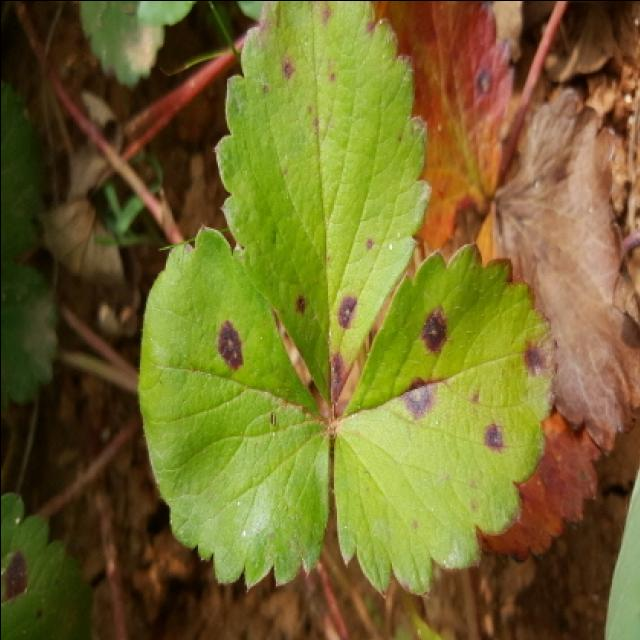Leaf Spot: (213, 2, 433, 419), (332, 240, 558, 601), (136, 225, 334, 592), (374, 2, 516, 279), (0, 490, 95, 640)
